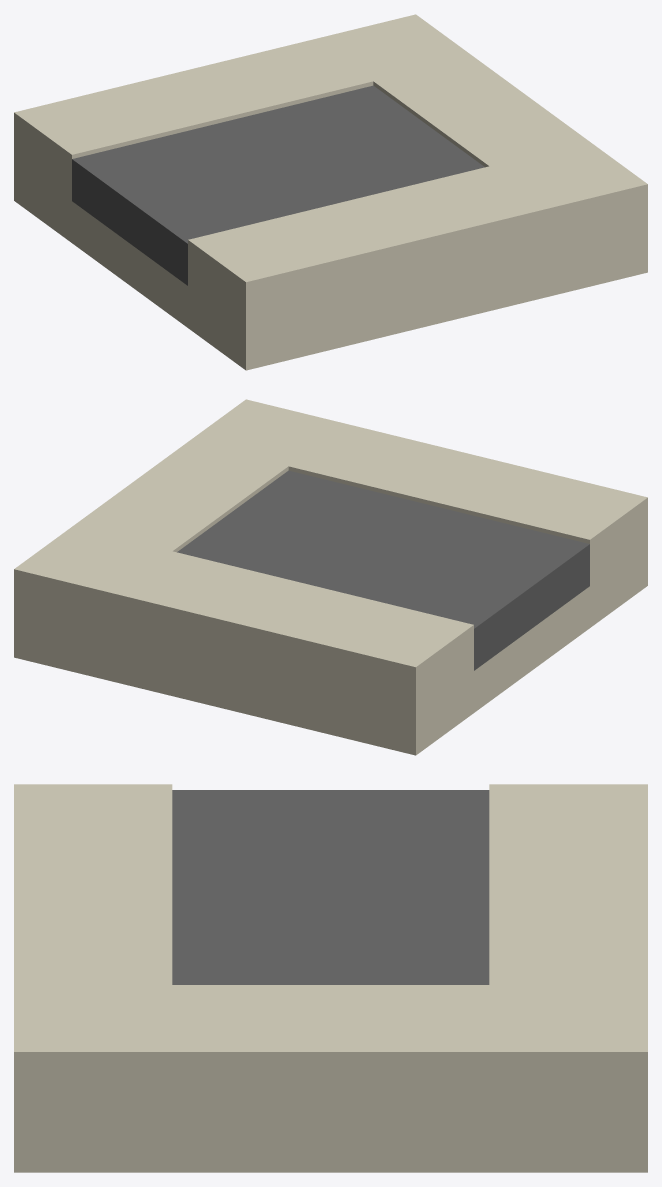
File: tile221.fbx
3 renders of one model, top to bottom at view 1: azimuth 30°, elevation 25°; view 2: azimuth 150°, elevation 25°; view 3: azimuth 270°, elevation 25°, orthographic. The views are drawn at different scales.
Visible parts, largest first — view 1: tile221; view 2: tile221; view 3: tile221.
Boxes of the visible parts, box(x1,y1,x2,y2) form: tile221: box(14, 14, 647, 370); tile221: box(14, 399, 647, 755); tile221: box(14, 784, 647, 1172).
Bounding box in the file's own units: 10 × 2.1 × 10.
